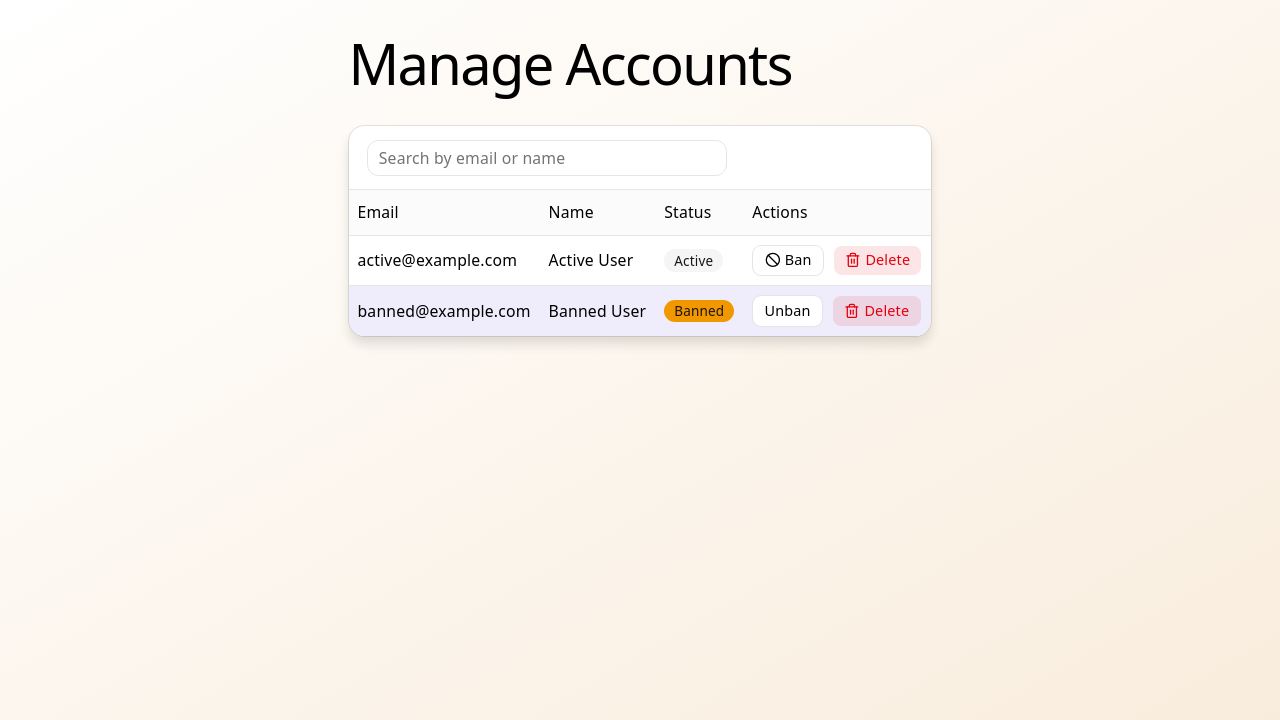
Test: SuperadminAccountsPage › cancelling the delete dialog leaves the account untouched
Expected: the text "active@example.com" is shown, [348, 235, 540, 286]
Click the button "Delete" in the row of "active@example.com" at (878, 260), box [833, 245, 922, 276]
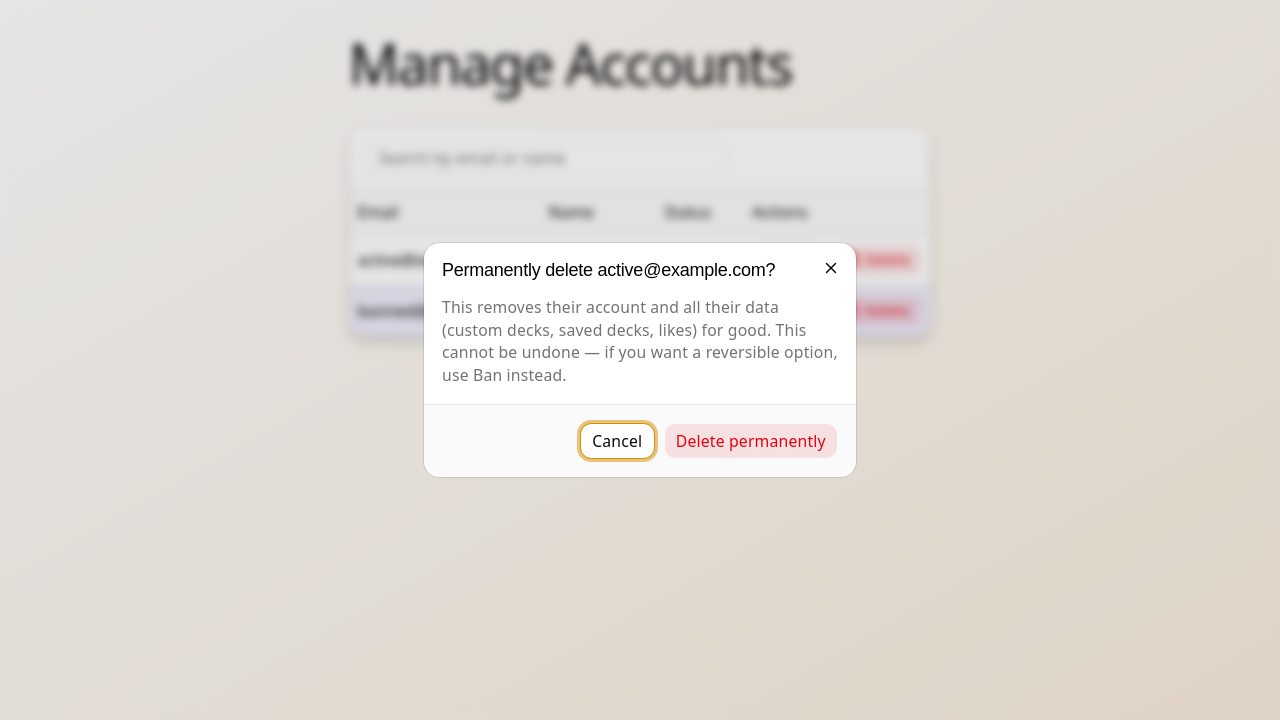
Expected: the heading "Permanently delete active@example.com?" is shown, [442, 260, 775, 280]
Click the button "Cancel" at (617, 441), box [580, 423, 654, 459]
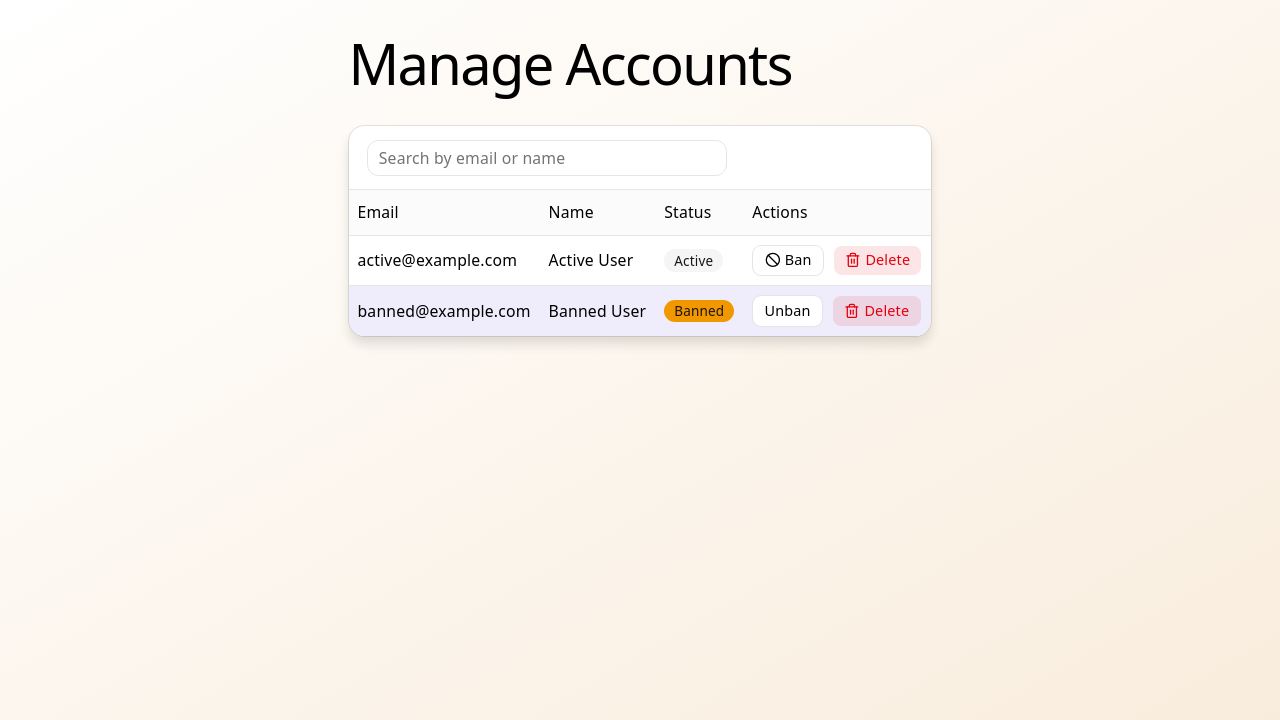
Expected: the text "active@example.com" is shown, [348, 235, 540, 286]
Expected: the heading "Permanently delete" is gone
